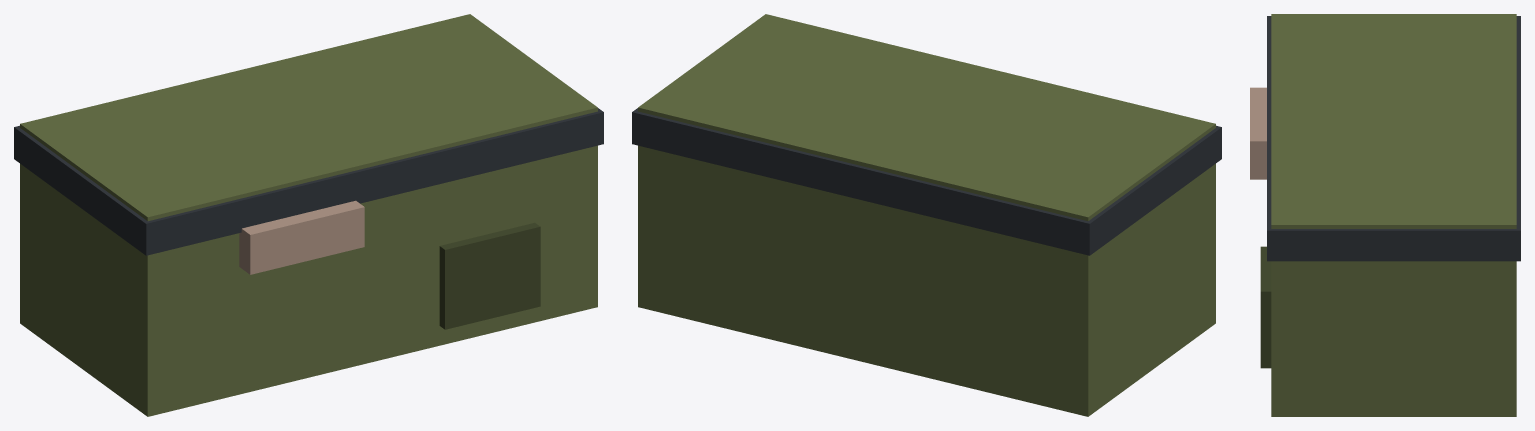
File: inf_v2_brute_lower_torso.fbx
3 renders of one model, left to right at view 1: azimuth 30°, elevation 25°; view 2: azimuth 150°, elevation 25°; view 3: azimuth 270°, elevation 25°, orthographic. The views are drawn at different scales.
Visible parts, largest first — view 1: inf_v2_brute_lower_torso; view 2: inf_v2_brute_lower_torso; view 3: inf_v2_brute_lower_torso.
Part boxes in pixels (x1,y1,x2,y2): inf_v2_brute_lower_torso: (14, 14, 603, 416); inf_v2_brute_lower_torso: (632, 14, 1221, 416); inf_v2_brute_lower_torso: (1250, 14, 1520, 416).
Size of the model in its own units: 240 by 100 by 128.
